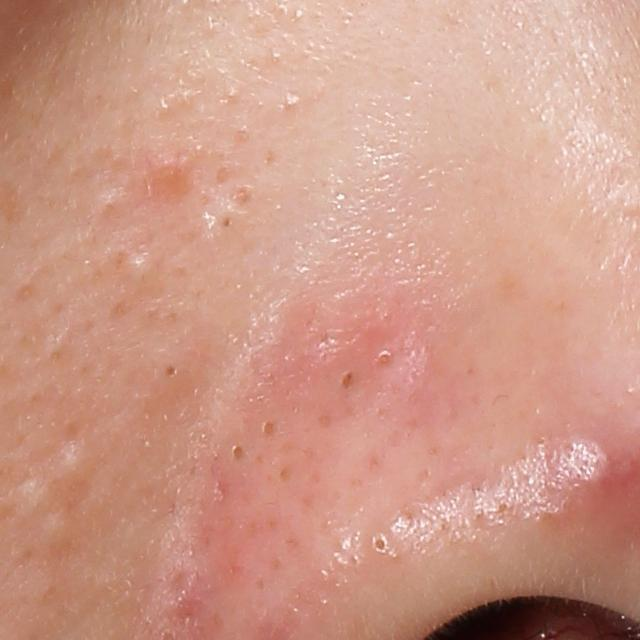comedo: (81, 180, 136, 235), (124, 246, 161, 292), (52, 438, 89, 484), (368, 339, 399, 374), (332, 362, 361, 397), (154, 361, 190, 389), (364, 527, 394, 560), (225, 436, 252, 467), (255, 416, 282, 443), (280, 86, 304, 115), (223, 81, 247, 105), (217, 213, 238, 234)
